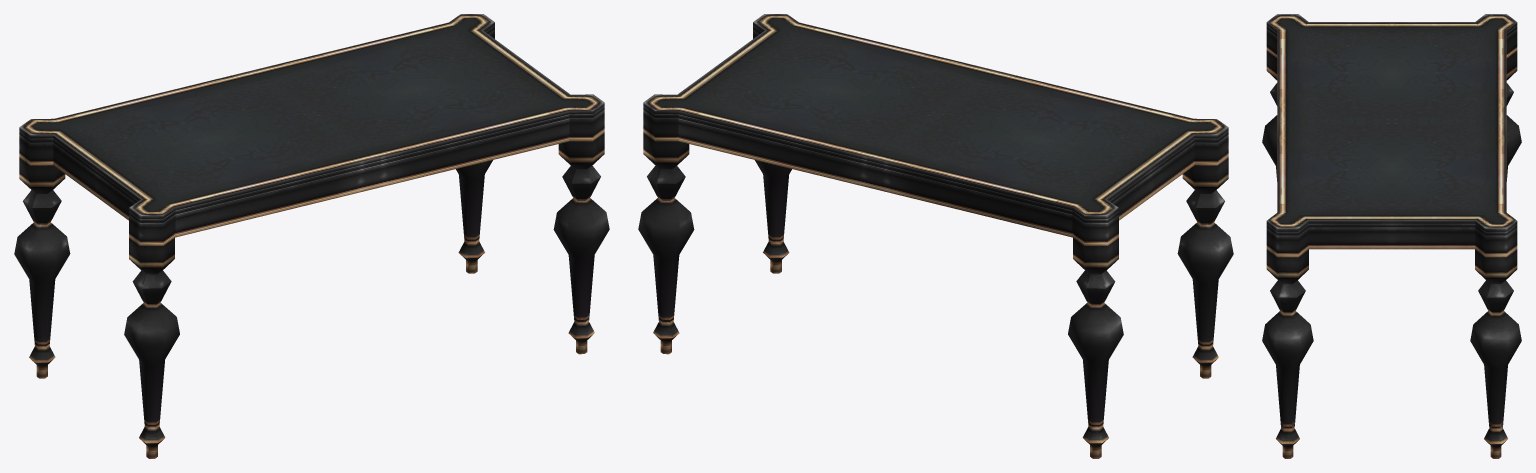
File: furni_0200306.FBX
3 renders of one model, left to right at view 1: azimuth 30°, elevation 25°; view 2: azimuth 150°, elevation 25°; view 3: azimuth 270°, elevation 25°, orthographic. The views are drawn at different scales.
Visible parts, largest first — view 1: furni_0200306; view 2: furni_0200306; view 3: furni_0200306.
Part boxes in pixels (left/top/right/bottom): furni_0200306: left=14, top=14, right=609, bottom=458; furni_0200306: left=638, top=14, right=1233, bottom=458; furni_0200306: left=1262, top=14, right=1521, bottom=458.
Size of the model in its own units: 158 by 79.93 by 79.66.
1 material, 1 textured.
